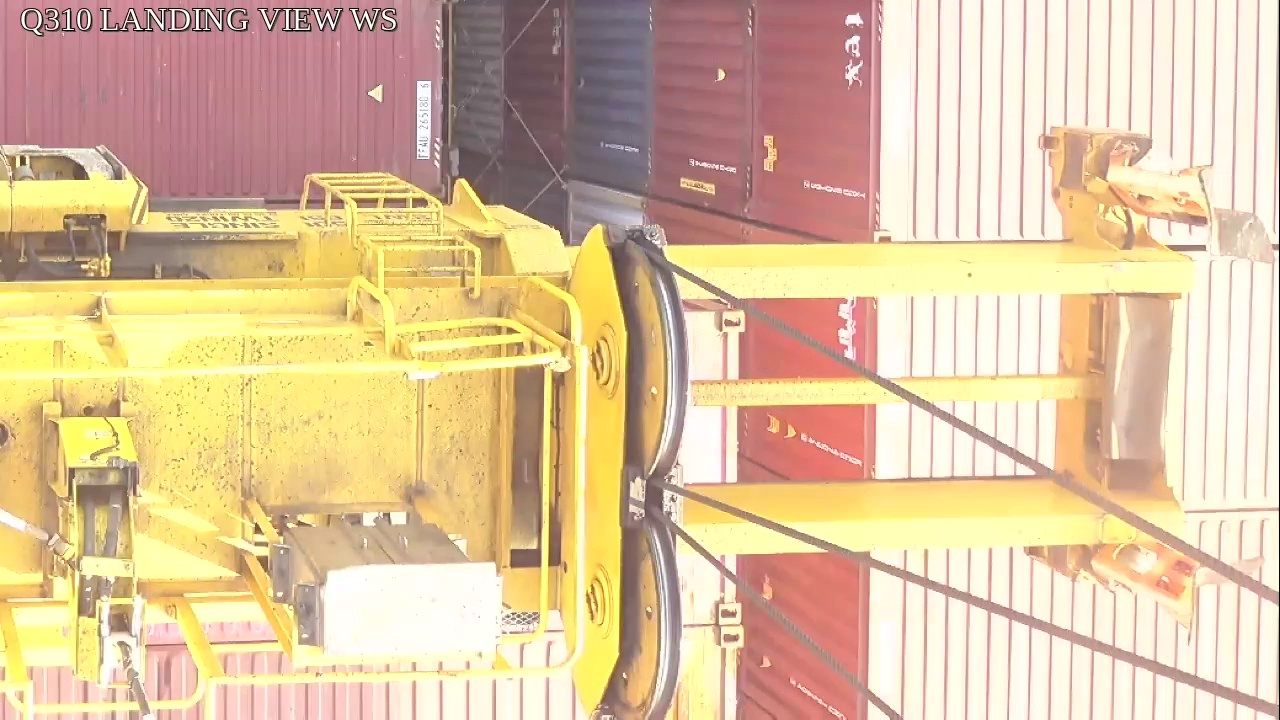right: (567, 224, 692, 720)
